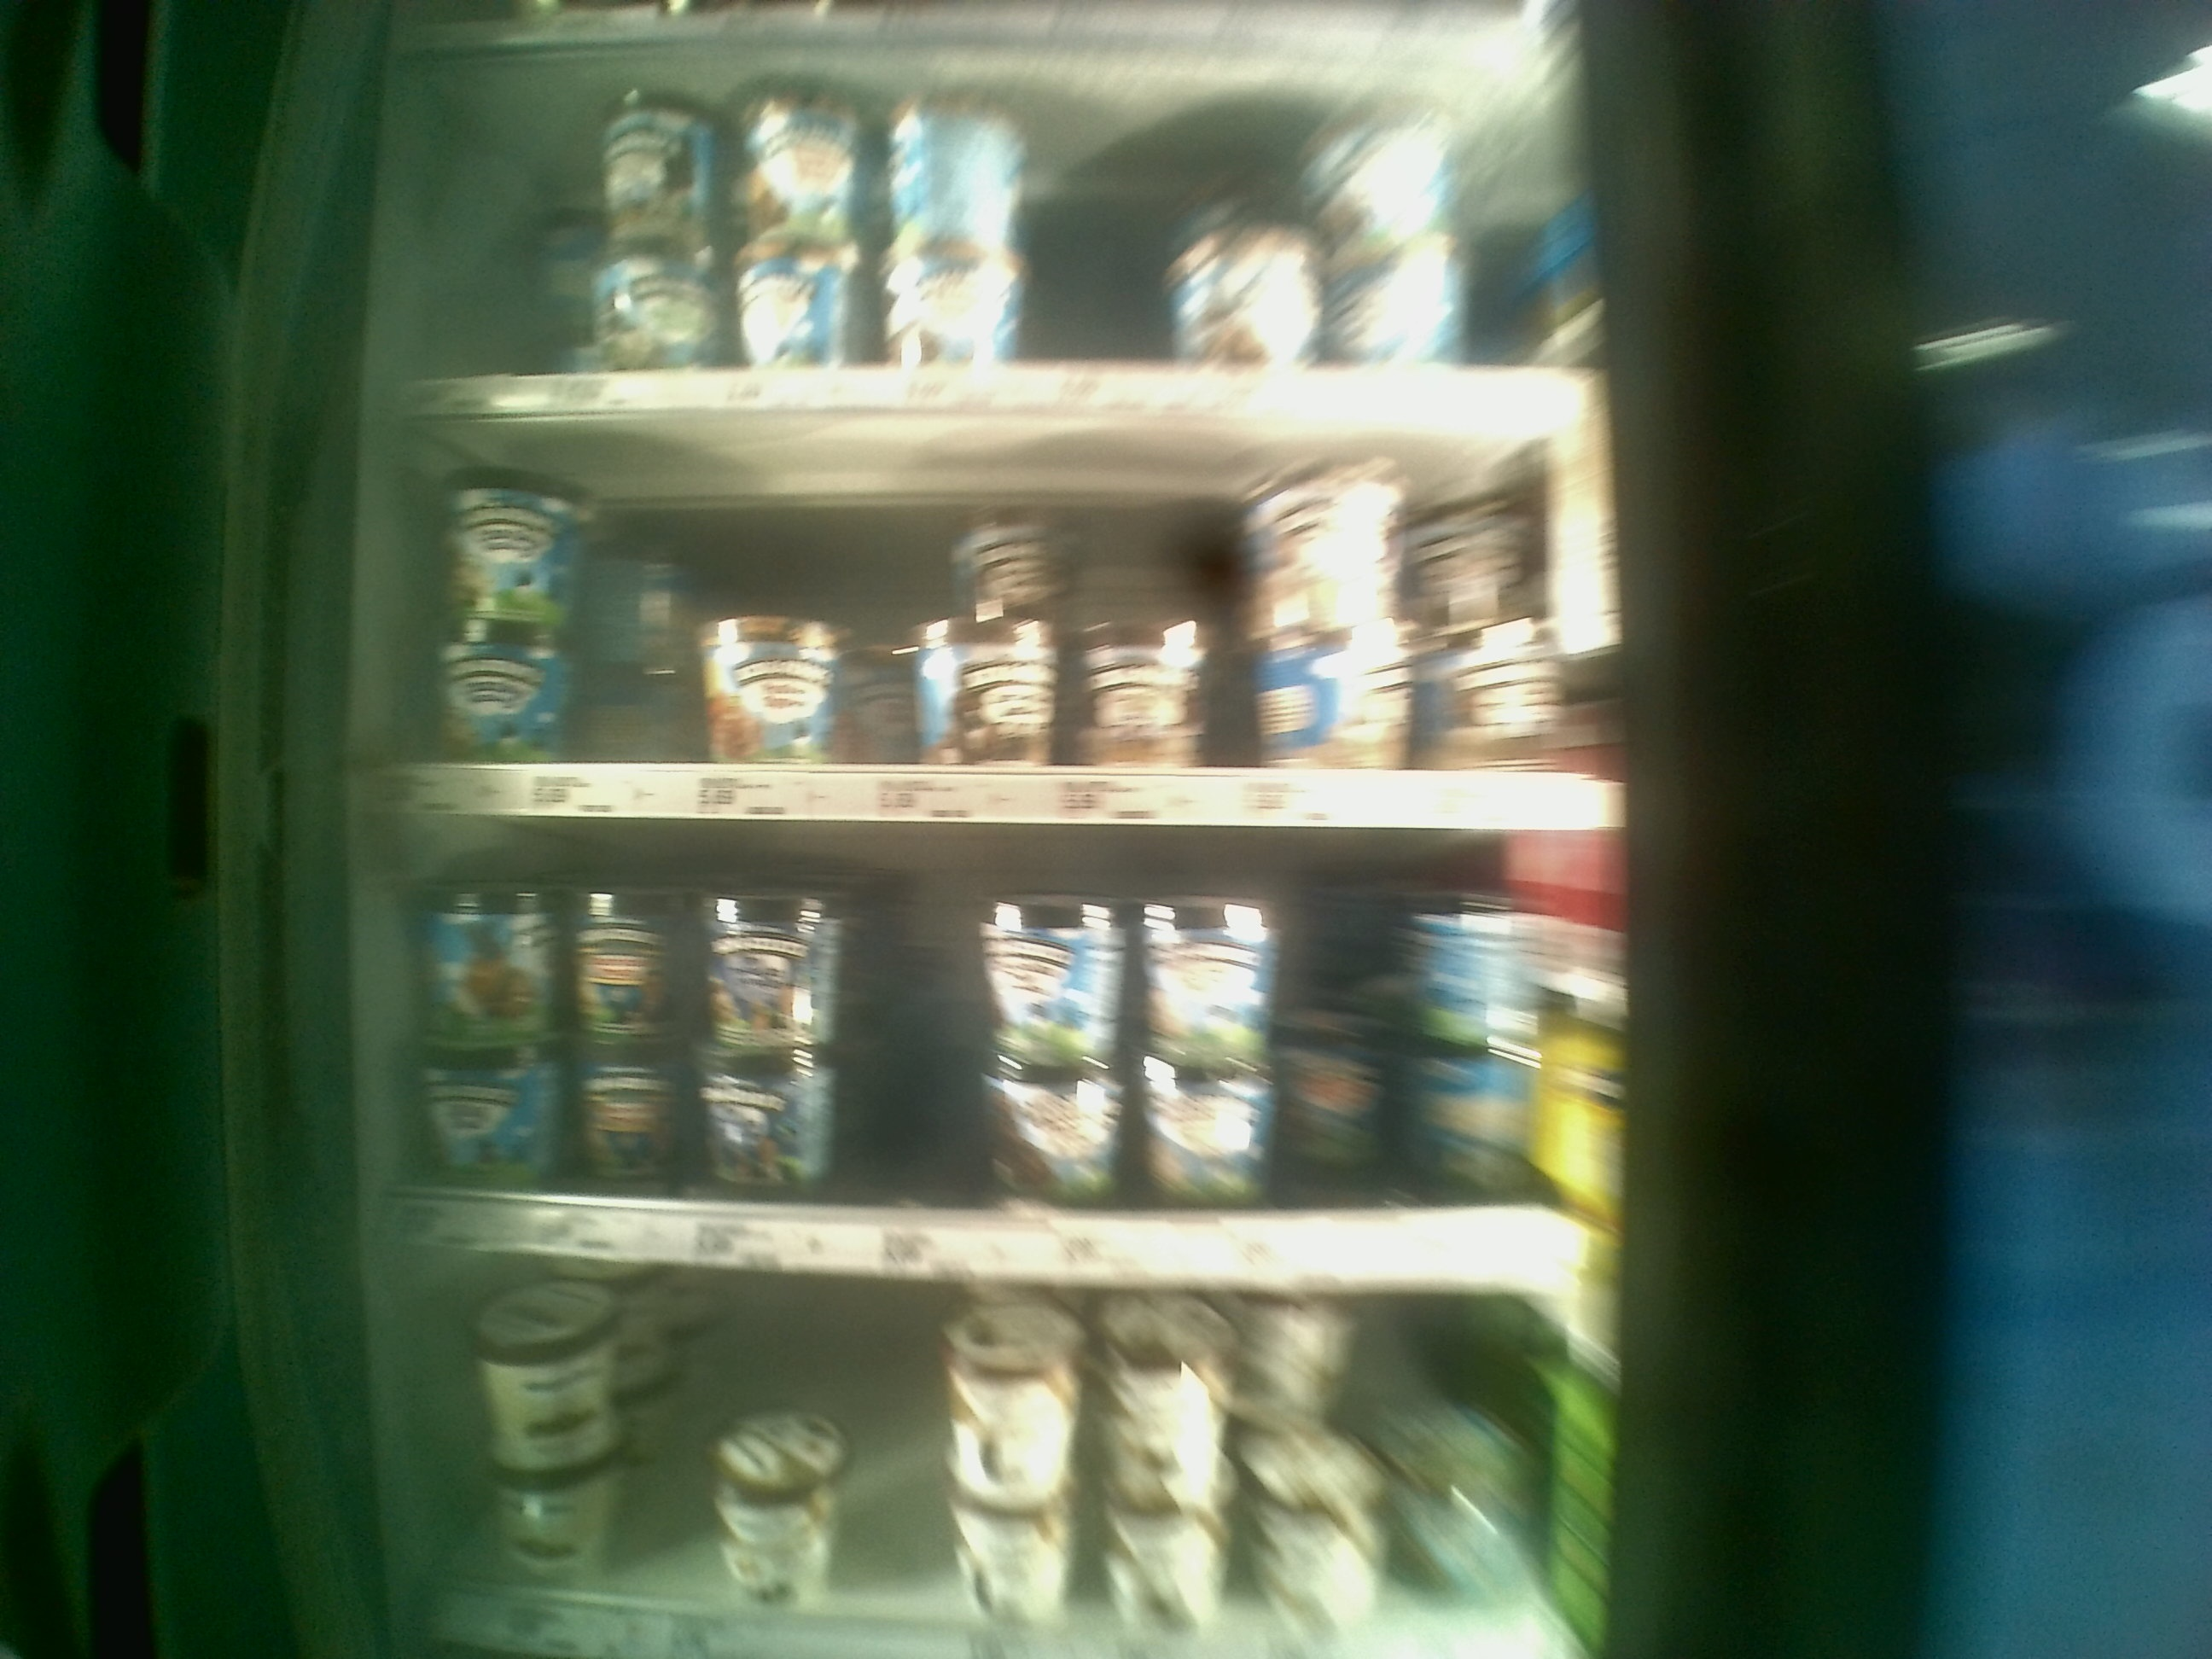shelf: (387, 828, 1616, 1286), (388, 413, 1623, 828)
